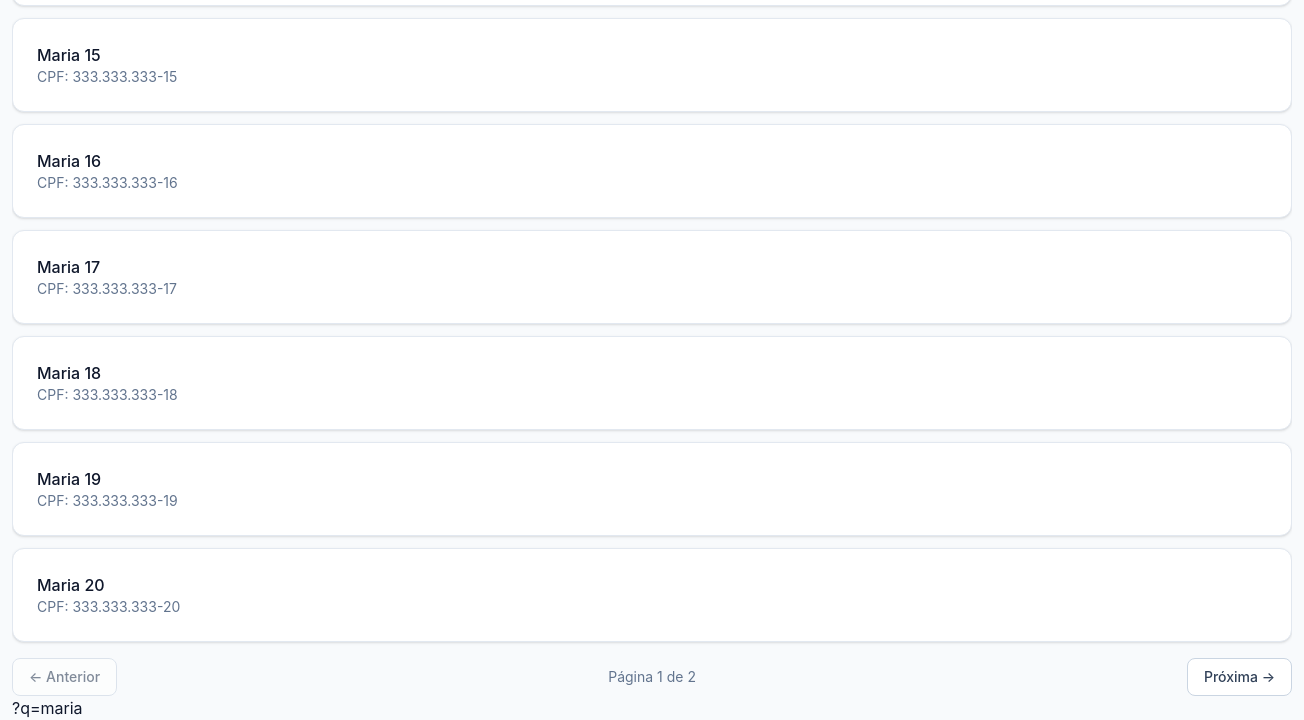
Test case: AdminDonorsPage › troca de página pelos botões e guarda a página no endereço
(page scrolled)
Check: the button "← Anterior" is disabled, box [12,658,117,696]
What coordinates should you click on to do the following:
click the button "Próxima →"
I would click on:
 (1239, 677)
Its box is [1187,658,1292,696].
(page scrolled)
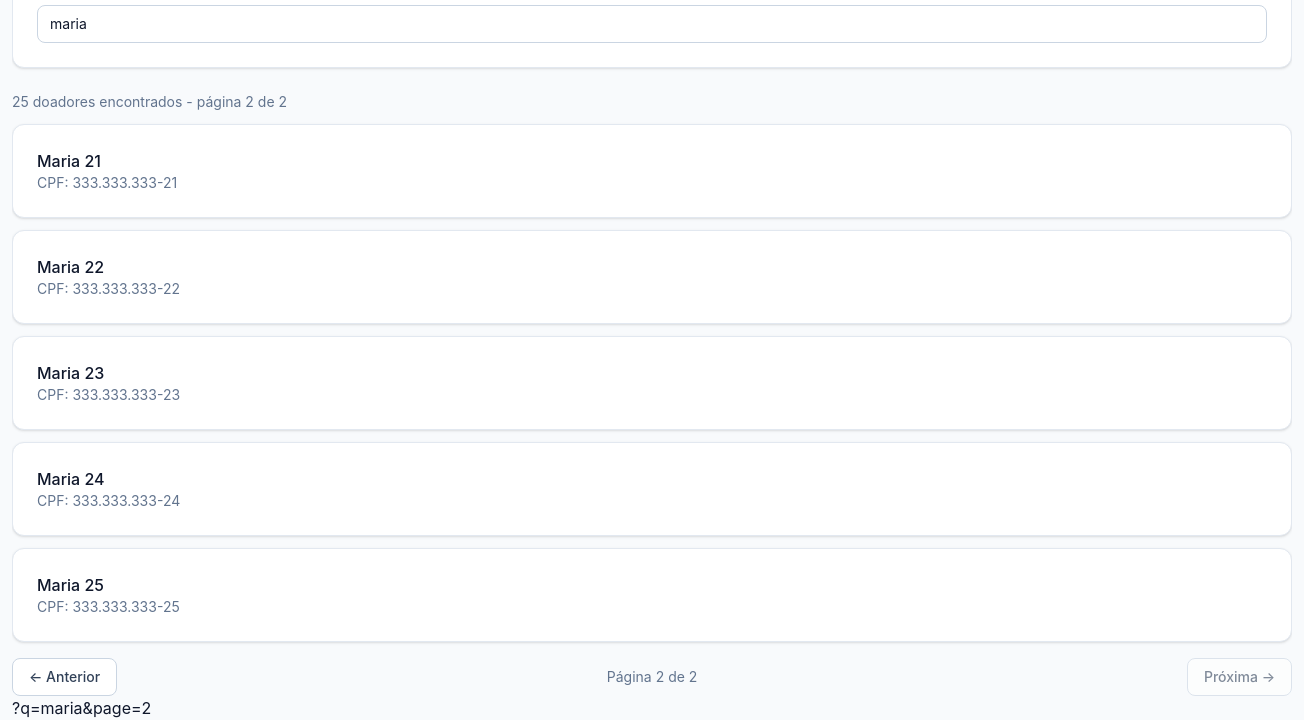
Check: the text "Maria 21" is shown, box [37,151,101,171]
Check: the text with test id "url" reads "?q=maria&page=2", box [12,698,151,718]
Check: the button "Próxima →" is disabled, box [1187,658,1292,696]
